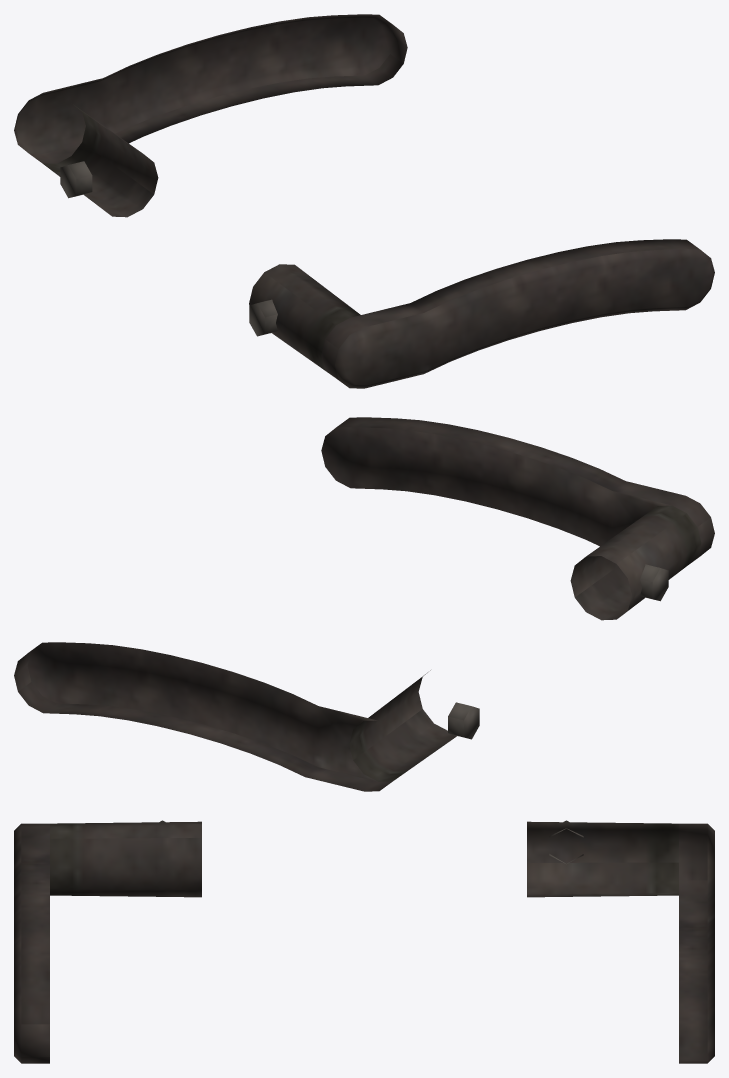
File: door_handle_1.fbx
The picture shows the model from 3 angles, top to bottom: view 1: azimuth 30°, elevation 25°; view 2: azimuth 150°, elevation 25°; view 3: azimuth 270°, elevation 25°; orthographic projection. The views are drawn at different scales.
Visible parts, largest first — view 1: door_handle_1; view 2: door_handle_1; view 3: door_handle_1.
Boxes of the visible parts, bbox=[...] form: door_handle_1: bbox=[14, 14, 714, 388]; door_handle_1: bbox=[14, 417, 714, 791]; door_handle_1: bbox=[14, 820, 714, 1063].
Bounding box in the file's own units: 13.4 × 2.54 × 19.4.
